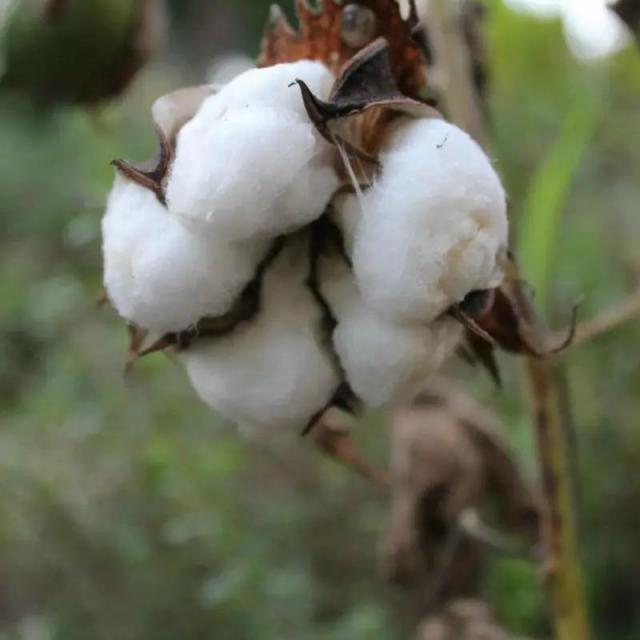Leaf: (89, 25, 602, 456)
